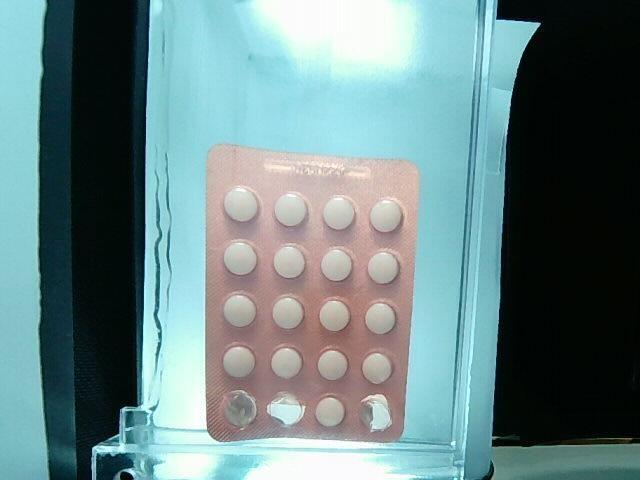Light Front: (206, 145, 418, 441)
No Pill Front: (220, 390, 257, 429), (266, 393, 304, 426), (360, 394, 392, 432)
Pill Front: (224, 186, 259, 221), (274, 193, 309, 227), (224, 241, 257, 275), (370, 198, 402, 233), (274, 244, 306, 279), (323, 195, 355, 229), (273, 296, 305, 329), (224, 295, 256, 327), (223, 345, 255, 377), (321, 248, 352, 281), (368, 251, 399, 282), (365, 303, 396, 334), (319, 300, 350, 331), (361, 353, 392, 383), (318, 350, 349, 380), (271, 348, 302, 378), (315, 396, 345, 426)
